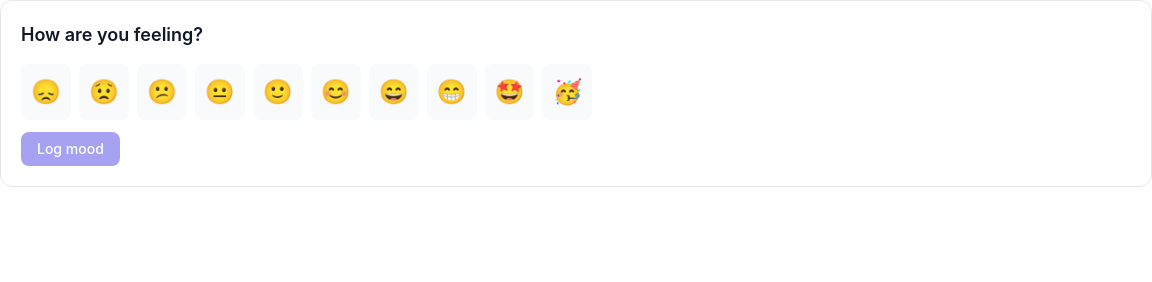
Test: MoodEntryWidget › shows textarea after mood is selected
The width and height of the screenshot is (1152, 282).
Step 1. Click the button with class "emoji-btn" showing "😞" → (46, 92), box [21, 64, 71, 120]
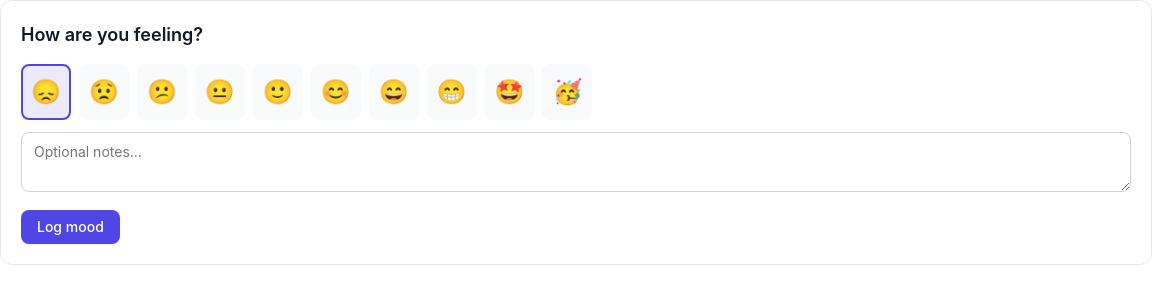
Result: the text box with class "notes-input" is shown at [21, 132, 1131, 192]
